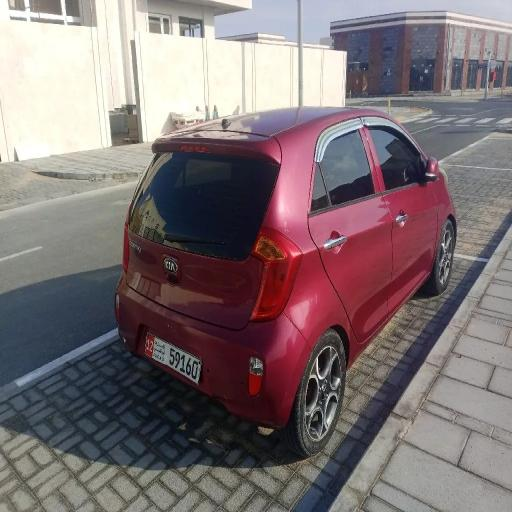license-plates: (145, 333, 201, 385)
